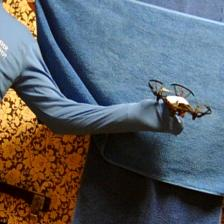drone: (147, 78, 213, 122)
